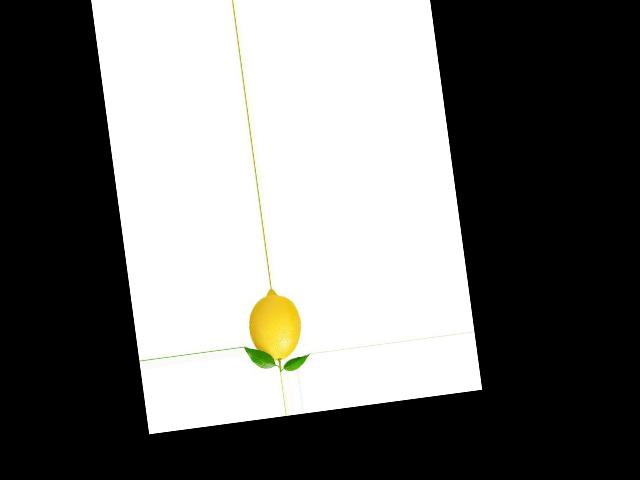lemon: (247, 285, 310, 369)
